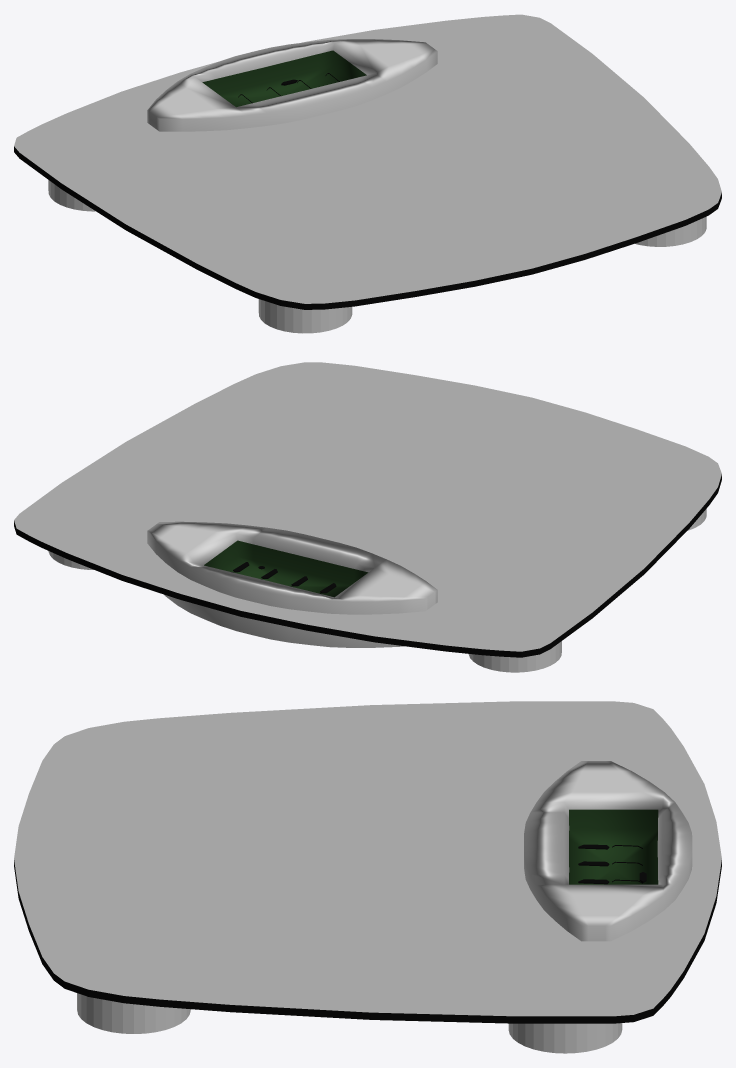
File: balanza.glb
3 renders of one model, top to bottom at view 1: azimuth 30°, elevation 25°; view 2: azimuth 150°, elevation 25°; view 3: azimuth 270°, elevation 25°, orthographic. The views are drawn at different scales.
Visible parts, largest first — view 1: Object_4, Object_5, Object_3, Object_2; view 2: Object_4, Object_5, Object_3, Object_2; view 3: Object_4, Object_5, Object_3, Object_2.
Boxes of the visible parts, x1,y1,x2,y2 form: Object_4: (14, 14, 721, 303); Object_5: (48, 39, 706, 333); Object_3: (14, 73, 721, 309); Object_2: (202, 50, 366, 107); Object_4: (14, 362, 721, 651); Object_5: (48, 509, 706, 672); Object_3: (14, 474, 721, 657); Object_2: (204, 540, 368, 597); Object_4: (14, 701, 721, 1016); Object_5: (77, 761, 692, 1053); Object_3: (14, 844, 721, 1023); Object_2: (569, 809, 658, 884).
Bounding box in the file's own units: 3.5 × 0.319 × 3.33.
